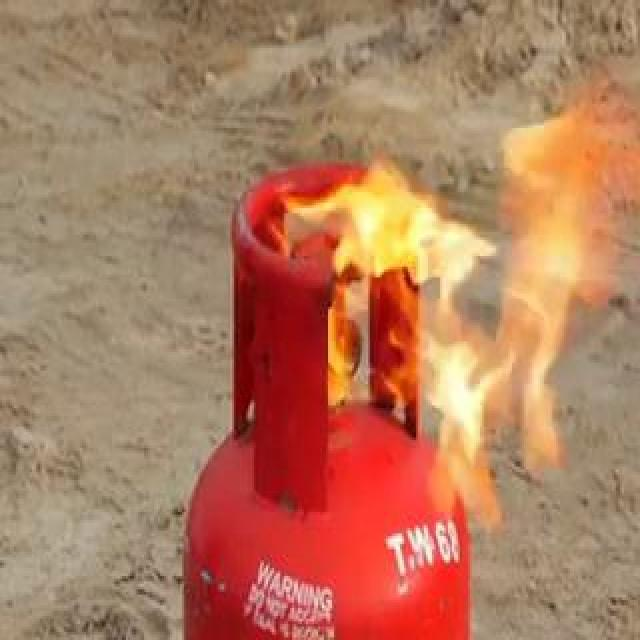Fire: (240, 66, 514, 466)
